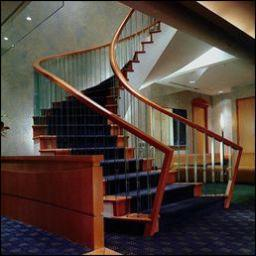Escaleras: (18, 25, 235, 226)
